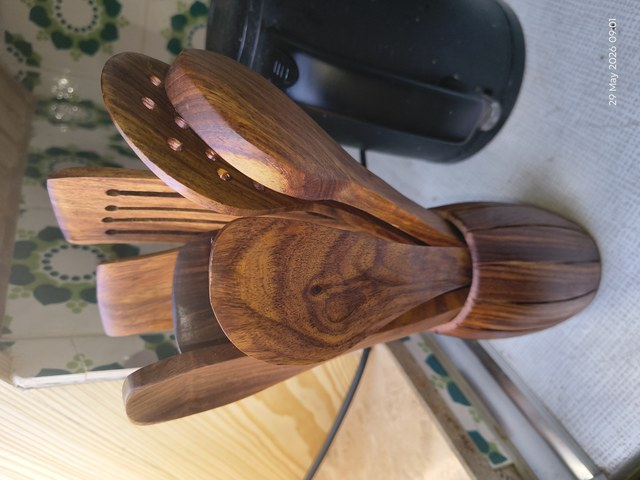Scotch-Brite Scrub Pad: (32, 24, 608, 456)
